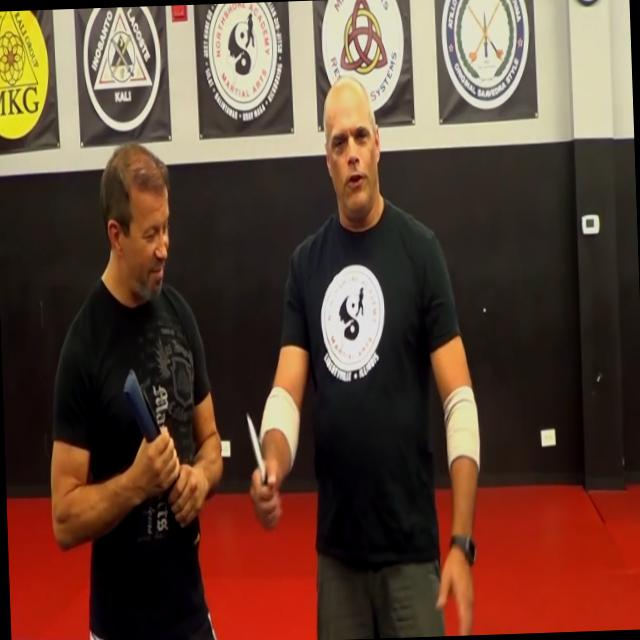knife: (241, 402, 285, 532)
